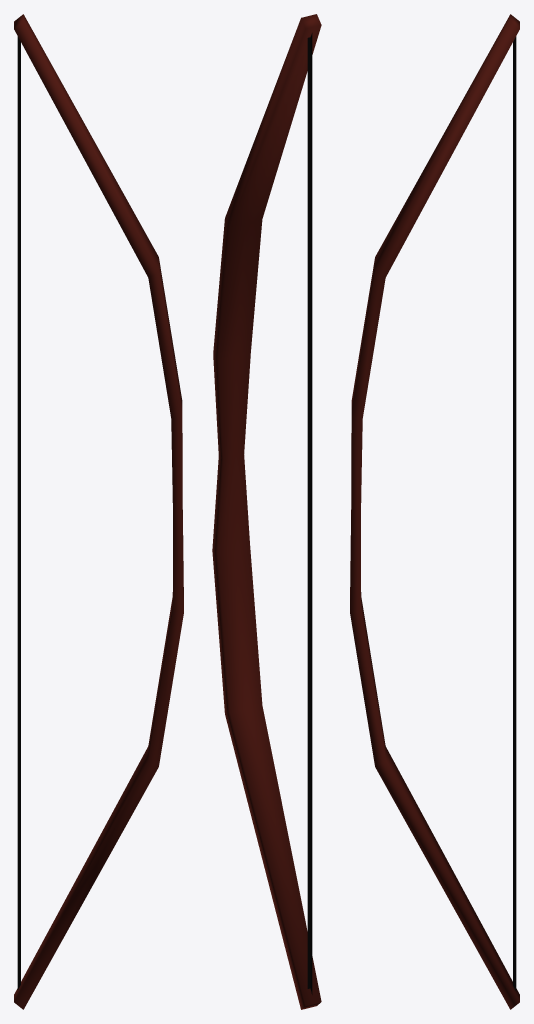
Rendered from test-bow.fbx.
3 renders of one model, left to right at view 1: azimuth 90°, elevation 25°; view 2: azimuth 210°, elevation 25°; view 3: azimuth 270°, elevation 25°, orthographic.
Parts seen in each view (by area): view 1: light_bow; view 2: light_bow; view 3: light_bow.
Boxes of the visible parts, left/top/right/bottom form: light_bow: left=14, top=14, right=183, bottom=1009; light_bow: left=212, top=14, right=321, bottom=1009; light_bow: left=350, top=14, right=519, bottom=1009.
Size of the model in its own units: 13.75 by 406 by 63.2.
